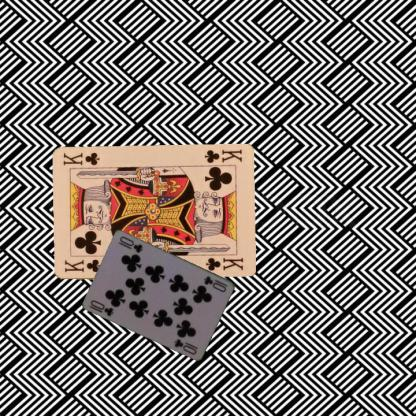10c: (201, 274, 229, 294), (87, 297, 115, 317)
Kc: (202, 146, 243, 164), (62, 256, 102, 274)
